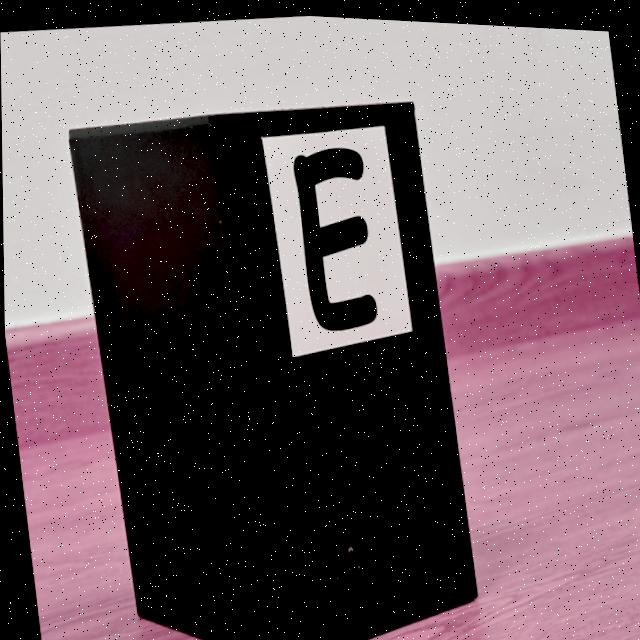E: (292, 144, 376, 327)
